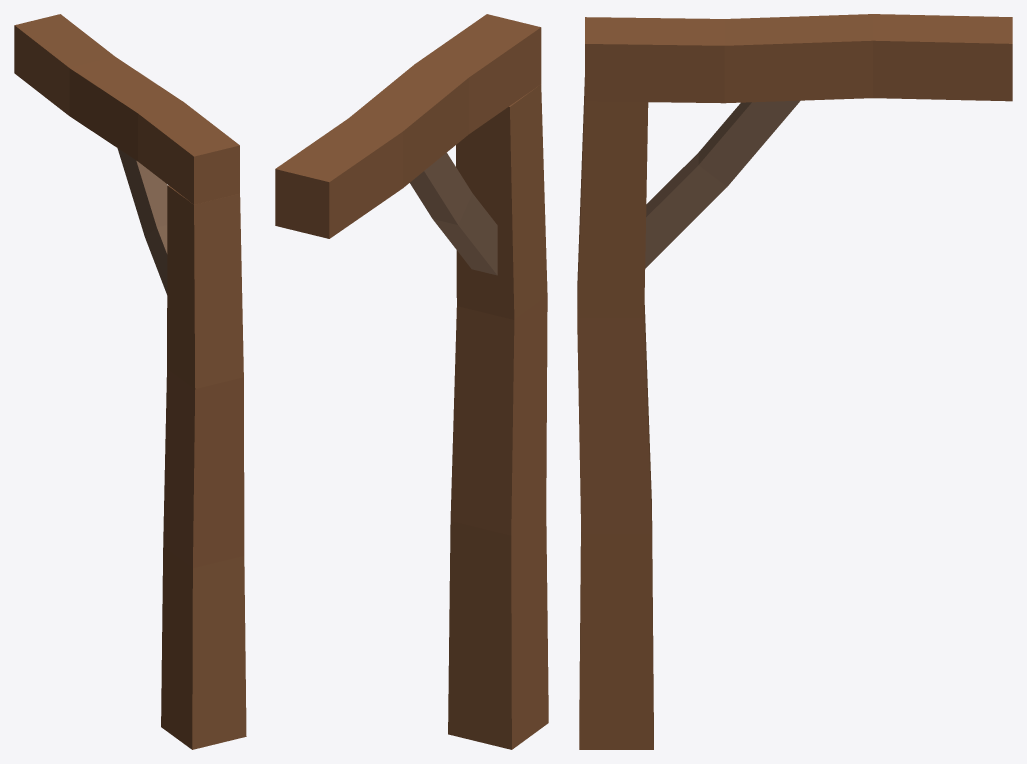
Rendered from Done_Pole.glb.
3 renders of one model, left to right at view 1: azimuth 30°, elevation 25°; view 2: azimuth 150°, elevation 25°; view 3: azimuth 270°, elevation 25°, orthographic. The views are drawn at different scales.
Visible parts, largest first — view 1: Pole; view 2: Pole; view 3: Pole.
Part boxes in pixels (x1,y1,x2,y2): Pole: [14, 14, 246, 749]; Pole: [275, 14, 548, 749]; Pole: [577, 14, 1012, 749].
Bounding box in the file's own units: 0.3137 × 3.27 × 1.83.
